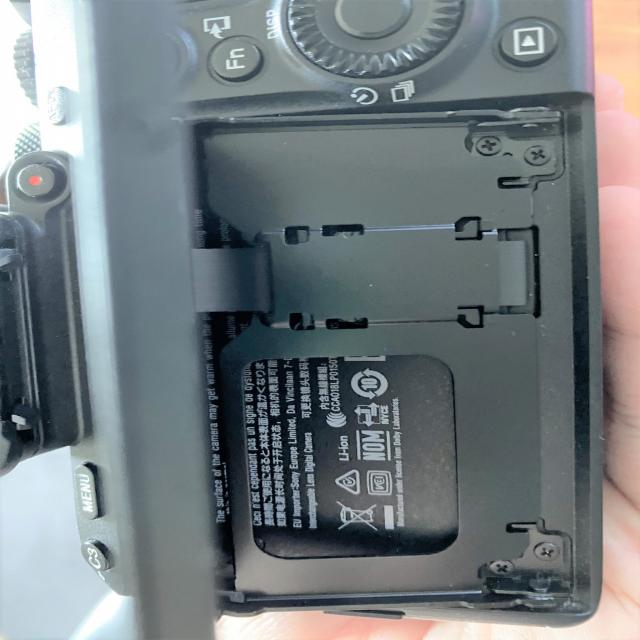PhillipsScrewHead: (524, 144, 553, 166), (476, 134, 504, 156), (533, 542, 561, 562), (489, 559, 515, 579)
